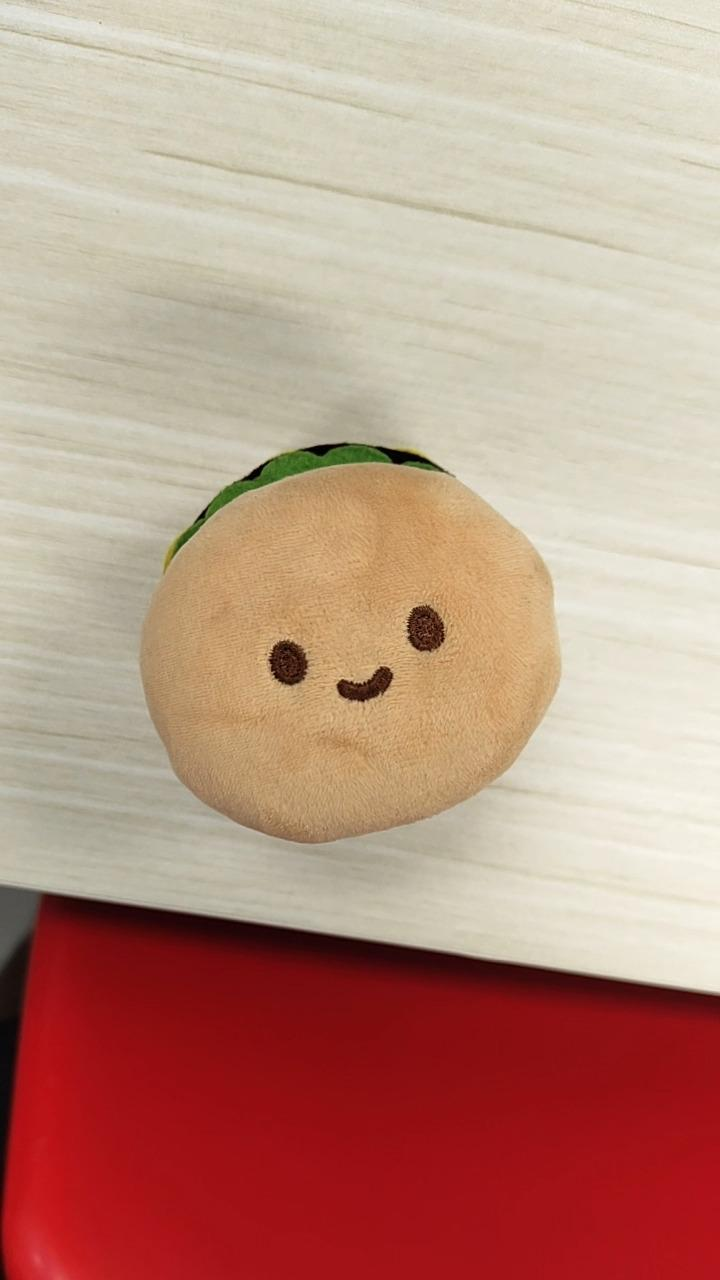hamburger: (138, 439, 562, 845)
